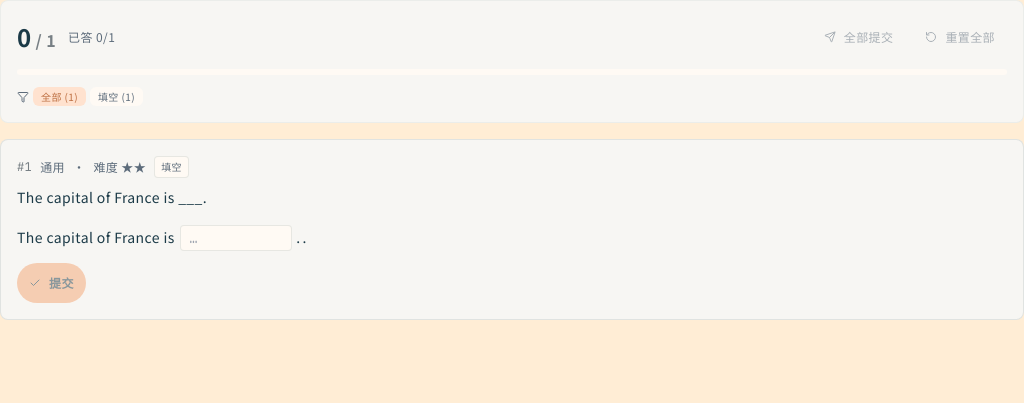
it: ExerciseViewer code integration › submits a fill_blank array answer and renders per-blank submission feedback
Type "Paris" into the field with placeholder "…" at {"x": 236, "y": 238}, box left=180, top=225, right=292, bottom=251
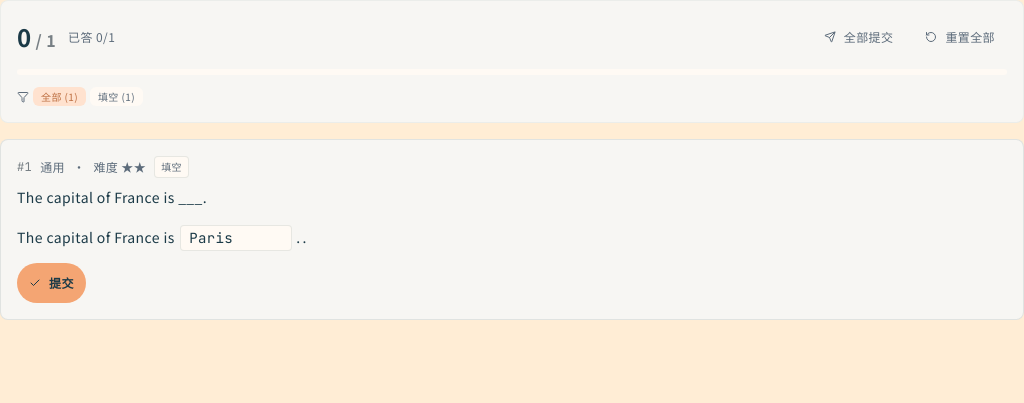
Click the button "提交" at {"x": 51, "y": 283}, box left=17, top=263, right=86, bottom=303
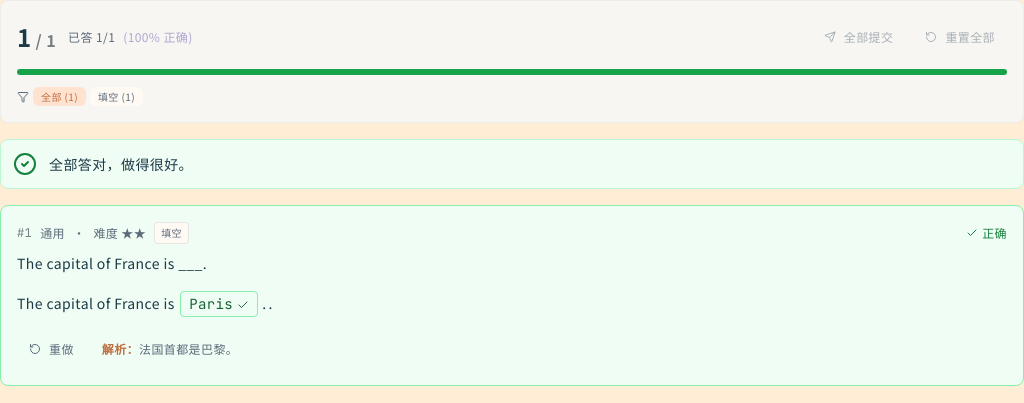
Expected: the text "解析：" is shown, left=102, top=340, right=139, bottom=357
Expected: the text "法国首都是巴黎。" is shown, left=139, top=340, right=238, bottom=357
